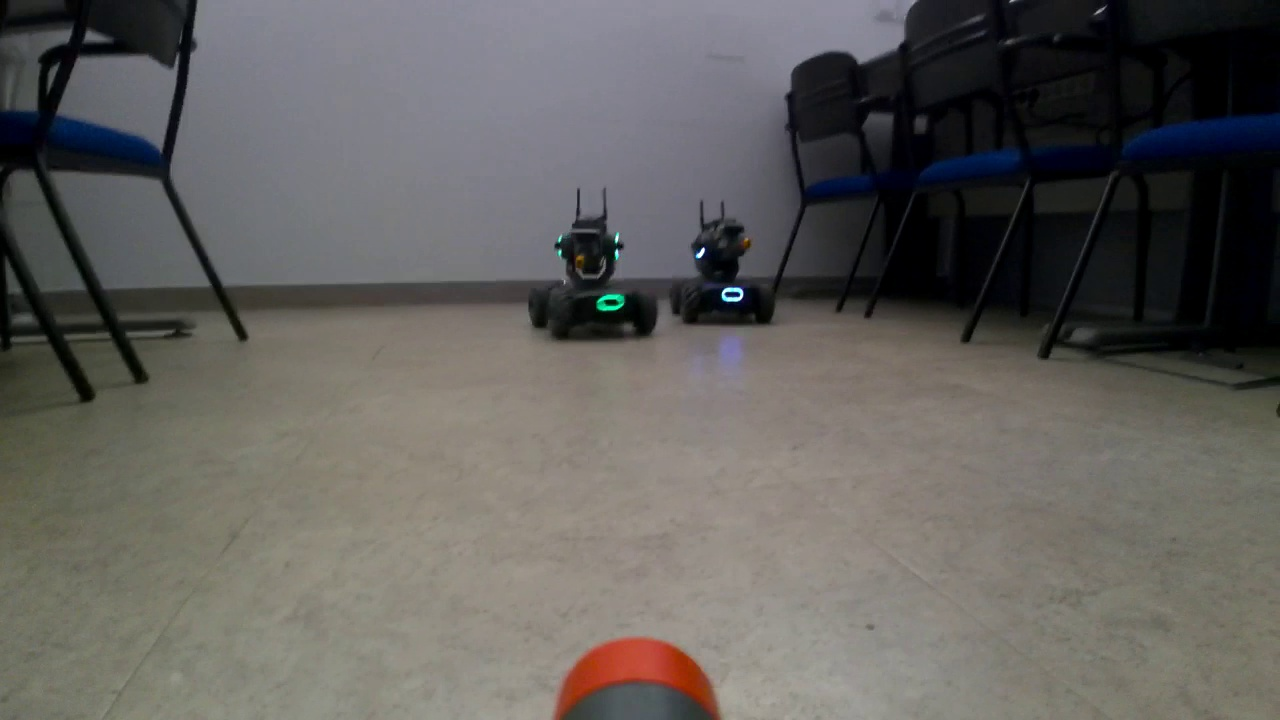robot: (530, 188, 660, 338), (676, 200, 776, 326)
